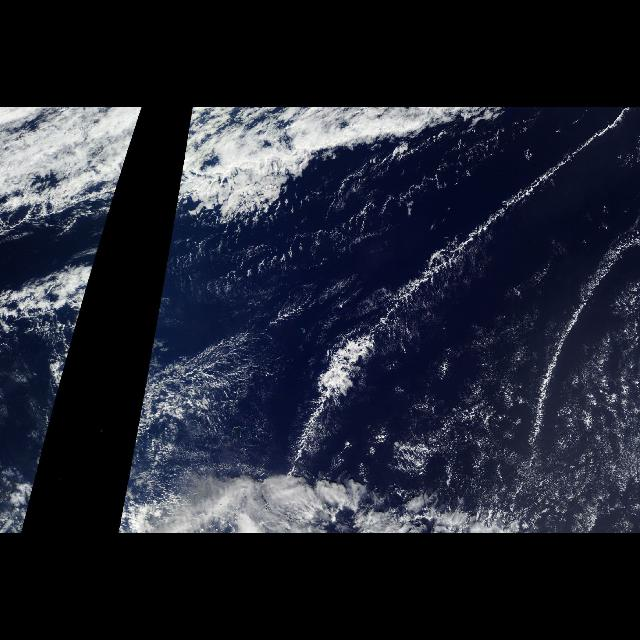Fish: (273, 110, 637, 492)
Flower: (232, 109, 634, 493)
Sugar: (409, 333, 639, 531)
